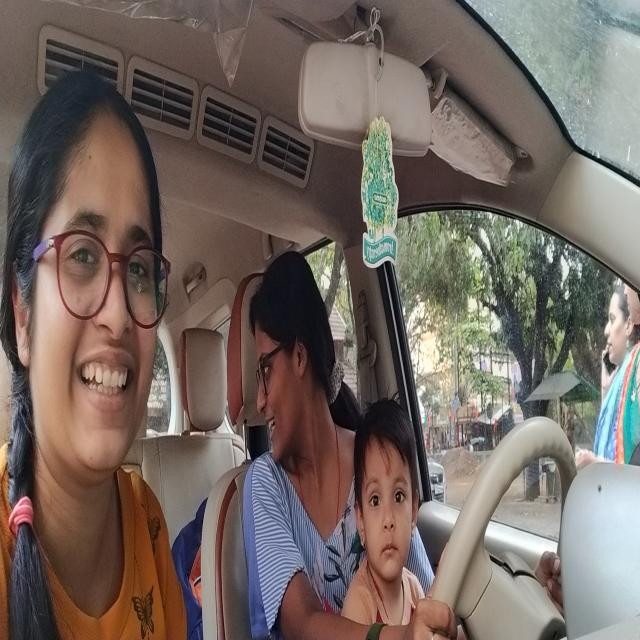LeftRight: (249, 244, 342, 470)
child: (352, 392, 421, 590)
person: (0, 65, 174, 504)
